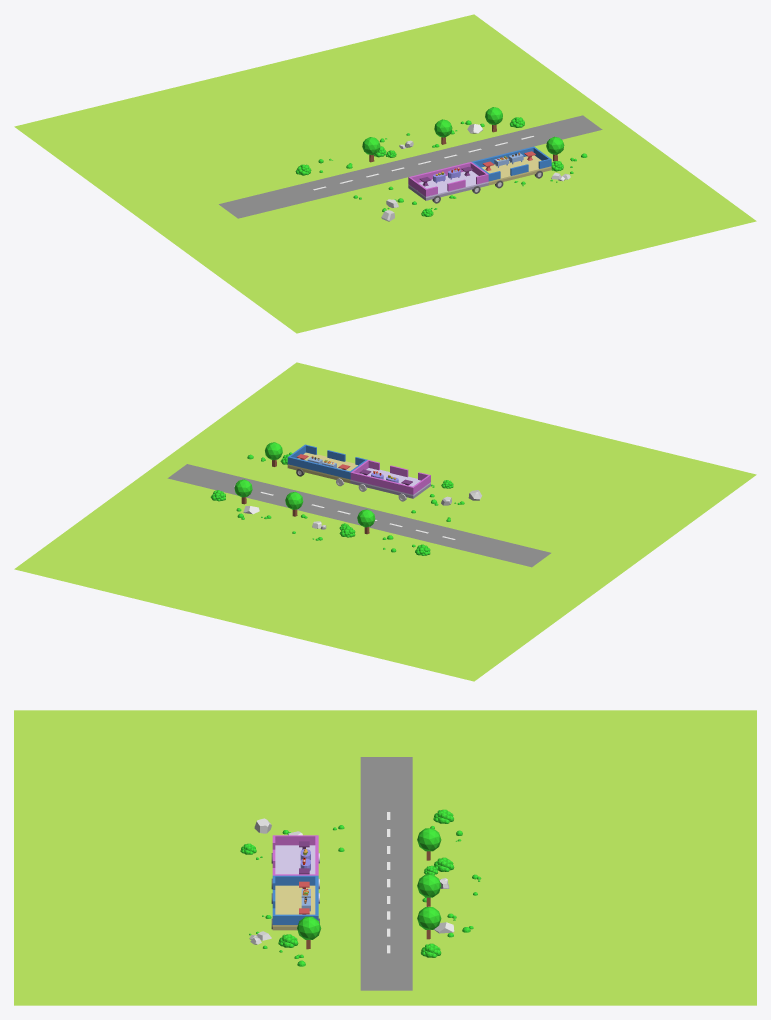
File: The cafe van.fbx
3 views of the same model, one above another, from view 1: azimuth 30°, elevation 25°; view 2: azimuth 150°, elevation 25°; view 3: azimuth 270°, elevation 25° (orthographic). The views are drawn at different scales.
Parts seen in each view (by area): view 1: Plane, Plane.001, Cube.014, Cube; view 2: Plane, Plane.001, Cube.015, Cube.001; view 3: Plane, Plane.001, Cube, Cube.014.
Part boxes in pixels (left/top/right/bottom): Plane: left=14, top=14, right=756, bottom=333; Plane.001: left=219, top=115, right=602, bottom=218; Cube.014: left=408, top=170, right=488, bottom=197; Cube: left=481, top=155, right=551, bottom=182; Plane: left=14, top=362, right=756, bottom=681; Plane.001: left=167, top=464, right=550, bottom=567; Cube.015: left=350, top=460, right=414, bottom=494; Cube.001: left=287, top=444, right=351, bottom=479; Plane: left=14, top=710, right=756, bottom=1005; Plane.001: left=360, top=757, right=412, bottom=990; Cube: left=272, top=885, right=315, bottom=926; Cube.014: left=275, top=845, right=315, bottom=874.
Size of the model in its own units: 7358 by 495 by 7830.
